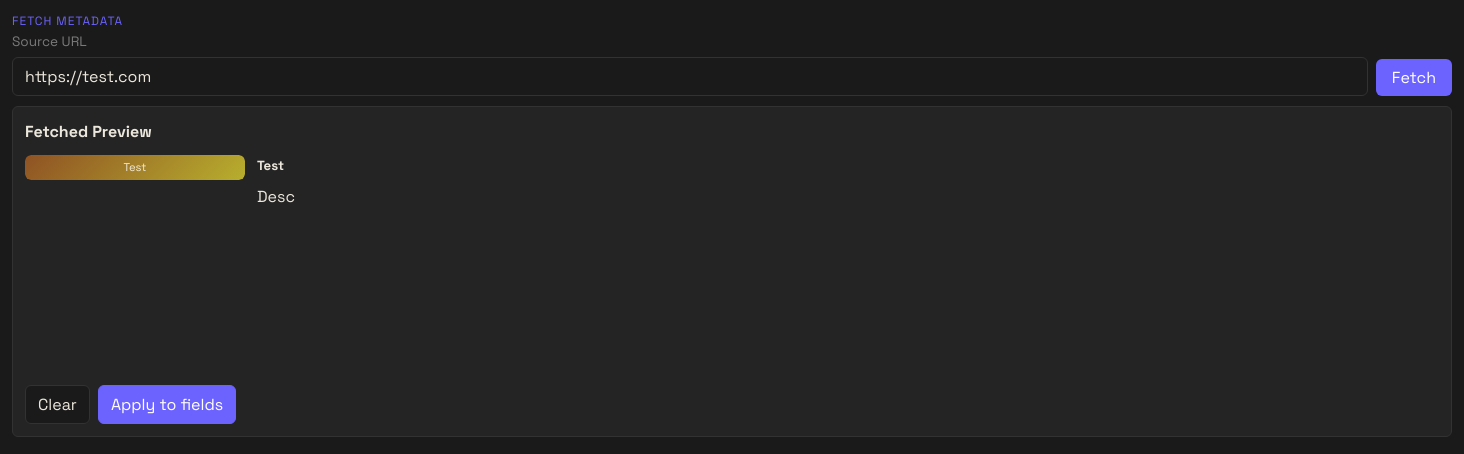
Test: MetadataFetcherComponent › hides the preview card when clear-preview-btn is clicked
Click the button with test id "clear-preview-btn": (57, 404) [25,384,90,424]
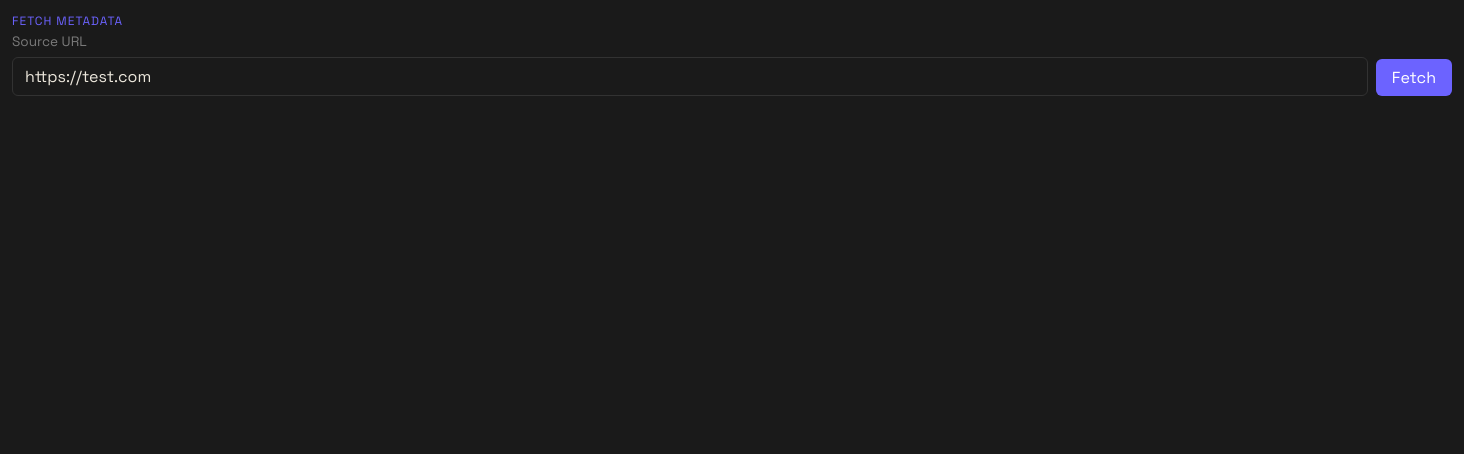
Expected: the element with test id "fetched-preview" is gone
